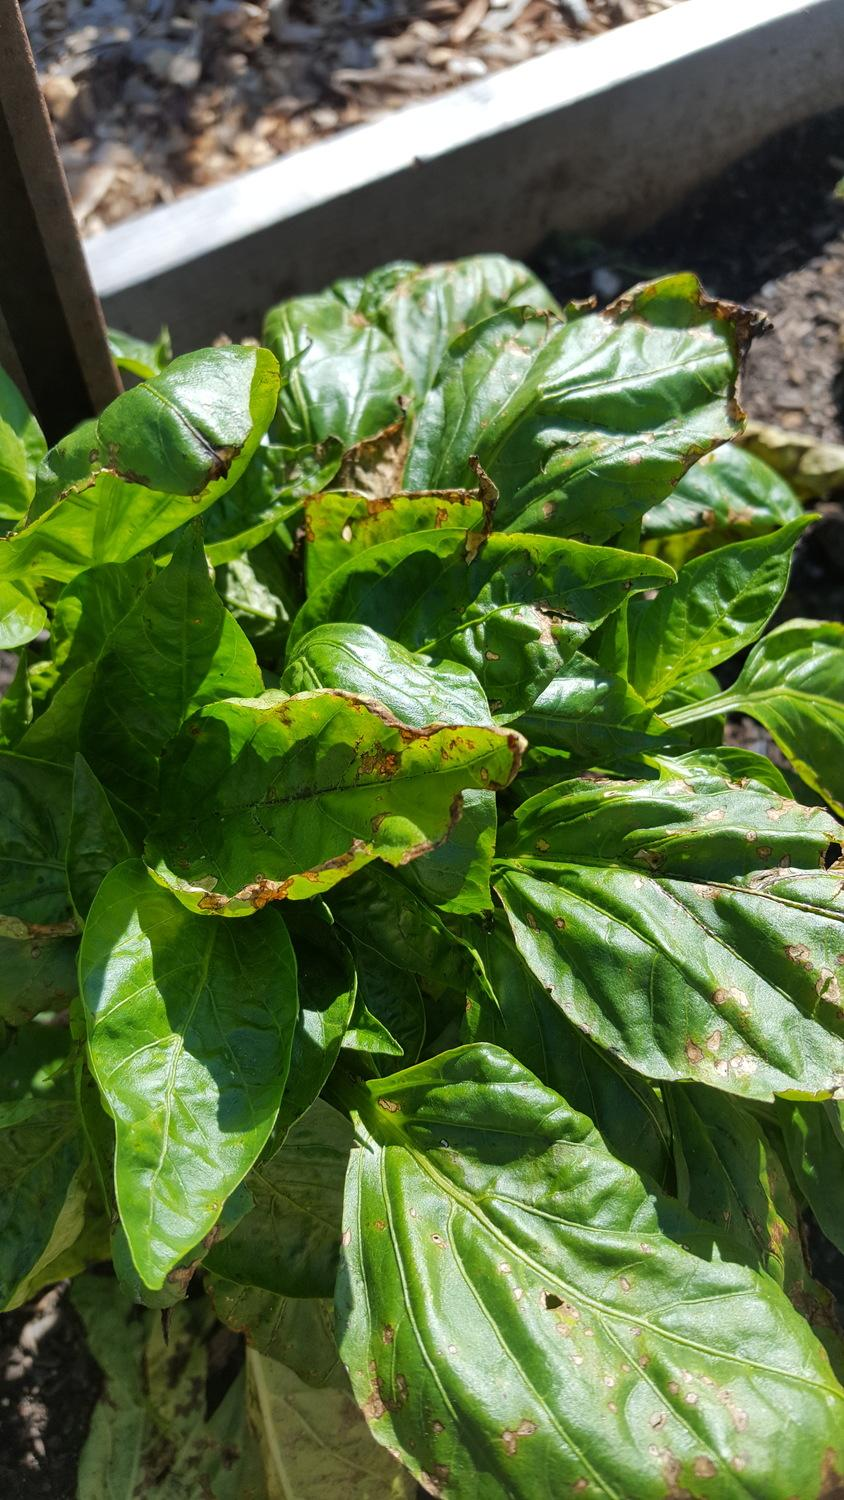Bell_pepper leaf: (333, 1041, 829, 1500), (507, 773, 844, 1100), (129, 678, 543, 927), (467, 265, 786, 519), (281, 468, 526, 651), (95, 342, 281, 504)
